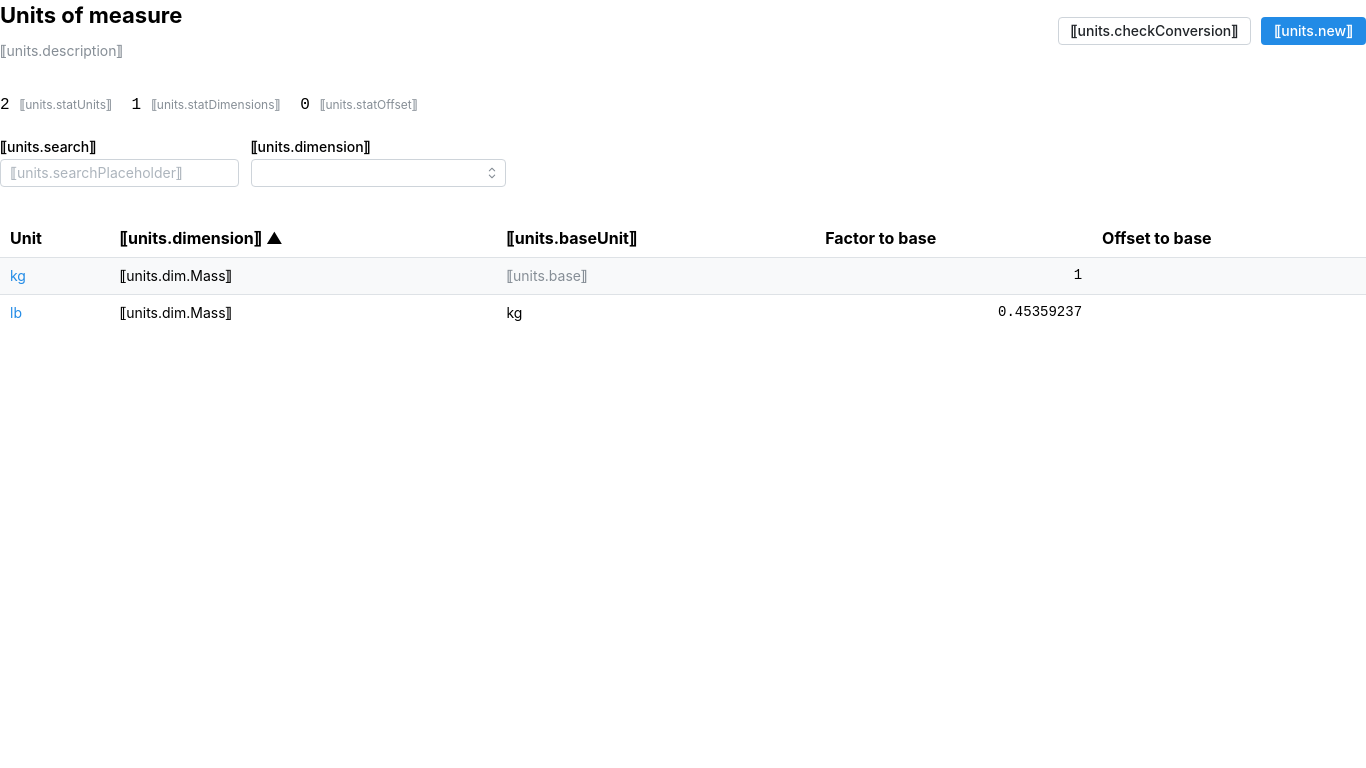
UnitEditModal: правка одиниці (BE-15 ч.2) › невикористовувана небазова одиниця: множник і зсув активні, 20 значущих цифр доїжджають рядком
The image size is (1366, 768).
Click the button "lb": (16, 313) [10,303,22,323]
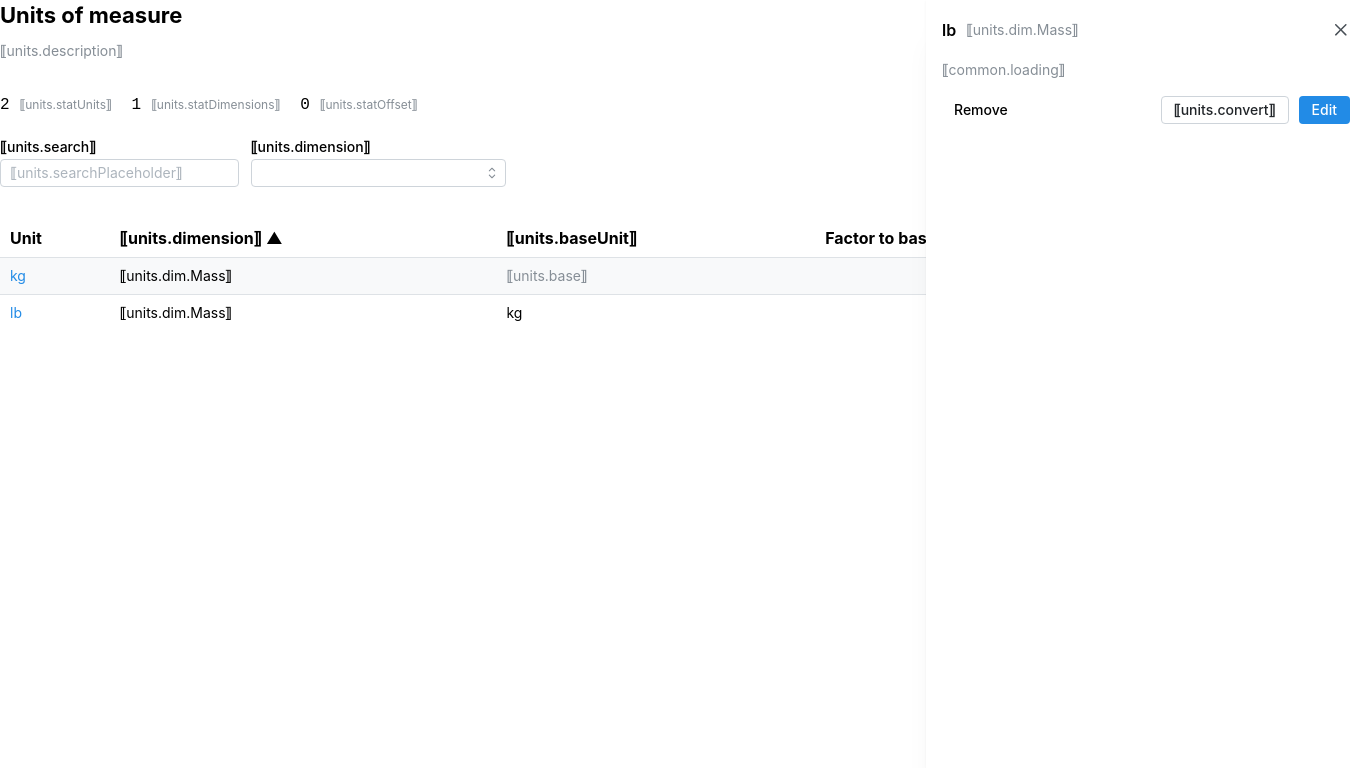
Click the button "Edit": (1324, 110) [1299,96,1350,124]
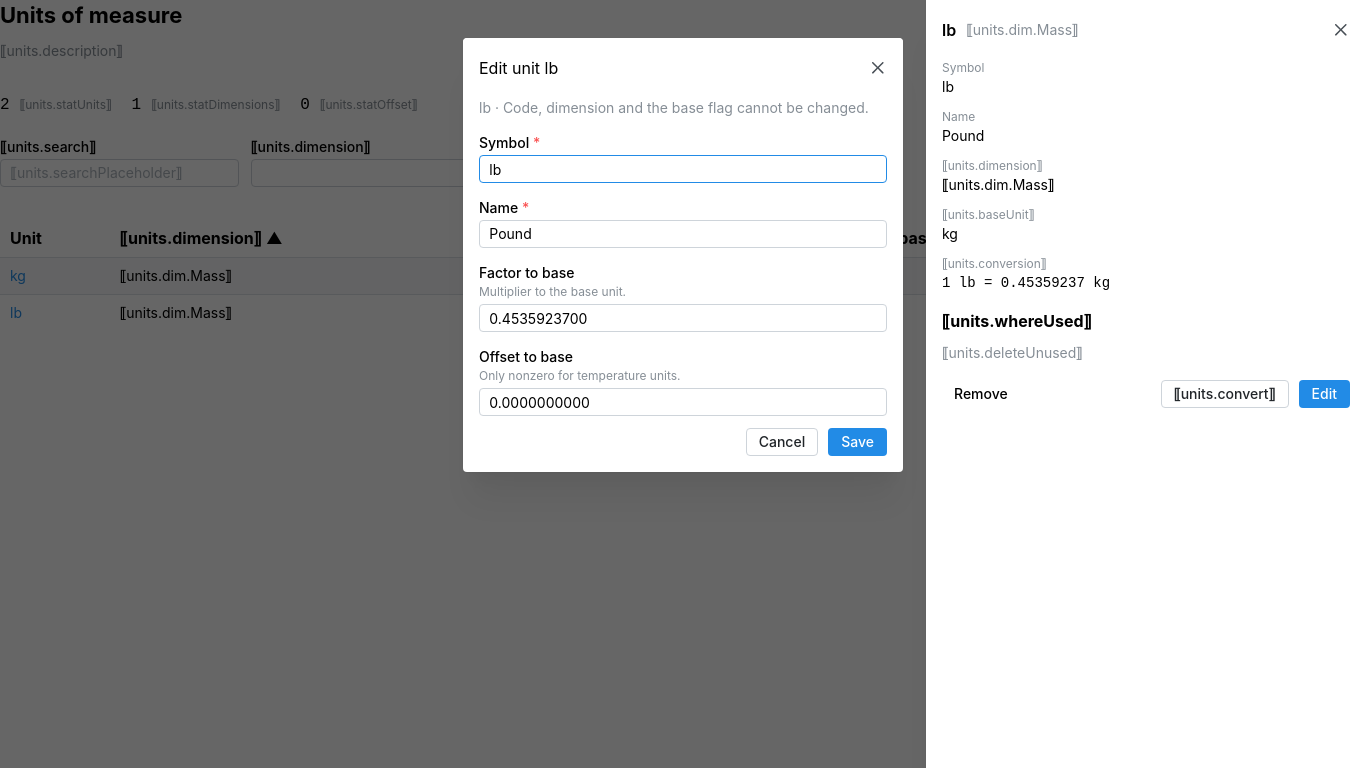
Replace the text in the field labelled "Factor to base" with "1234567.8901234567891": (683, 318) [479,304,887,332]
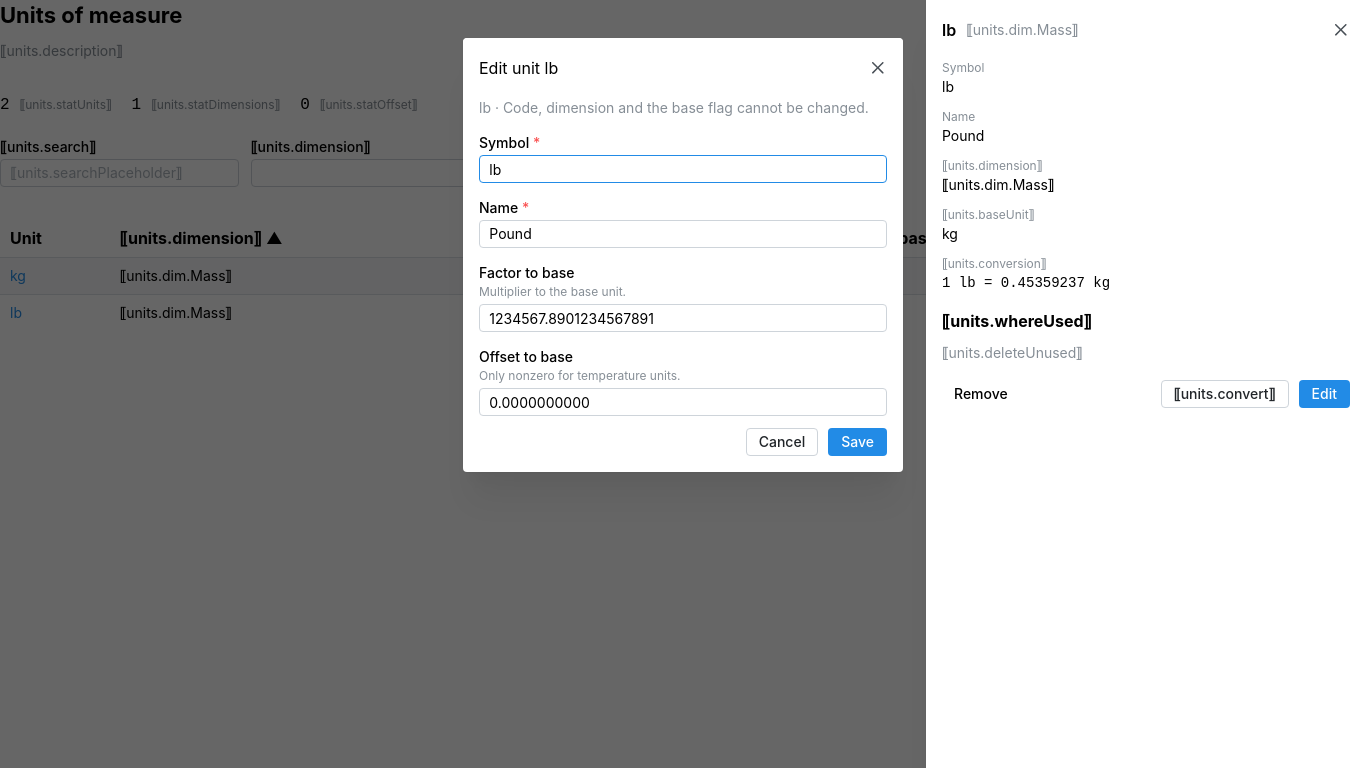
Replace the text in the field labelled "Symbol *" with "lbs": (683, 170) [479,156,887,184]
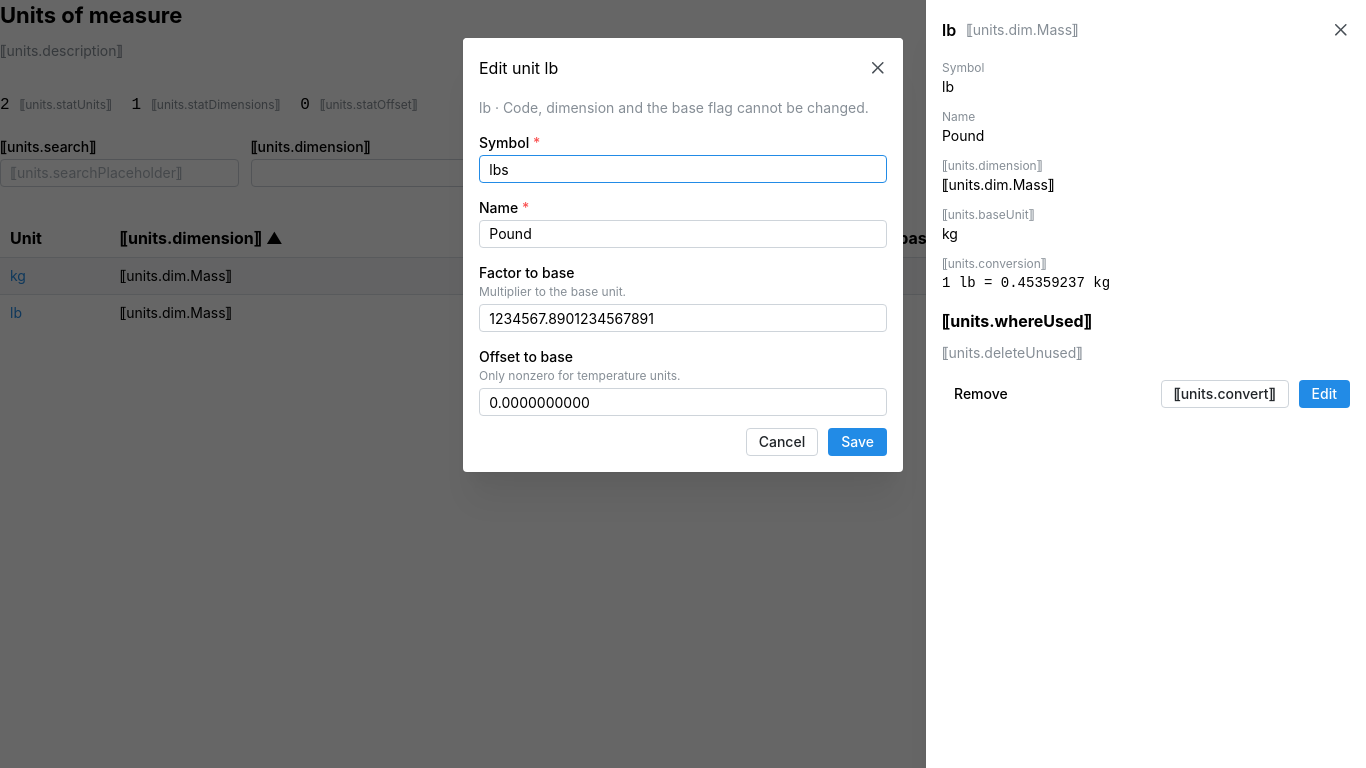
Click the button "Save": (858, 443) [828,429,887,457]
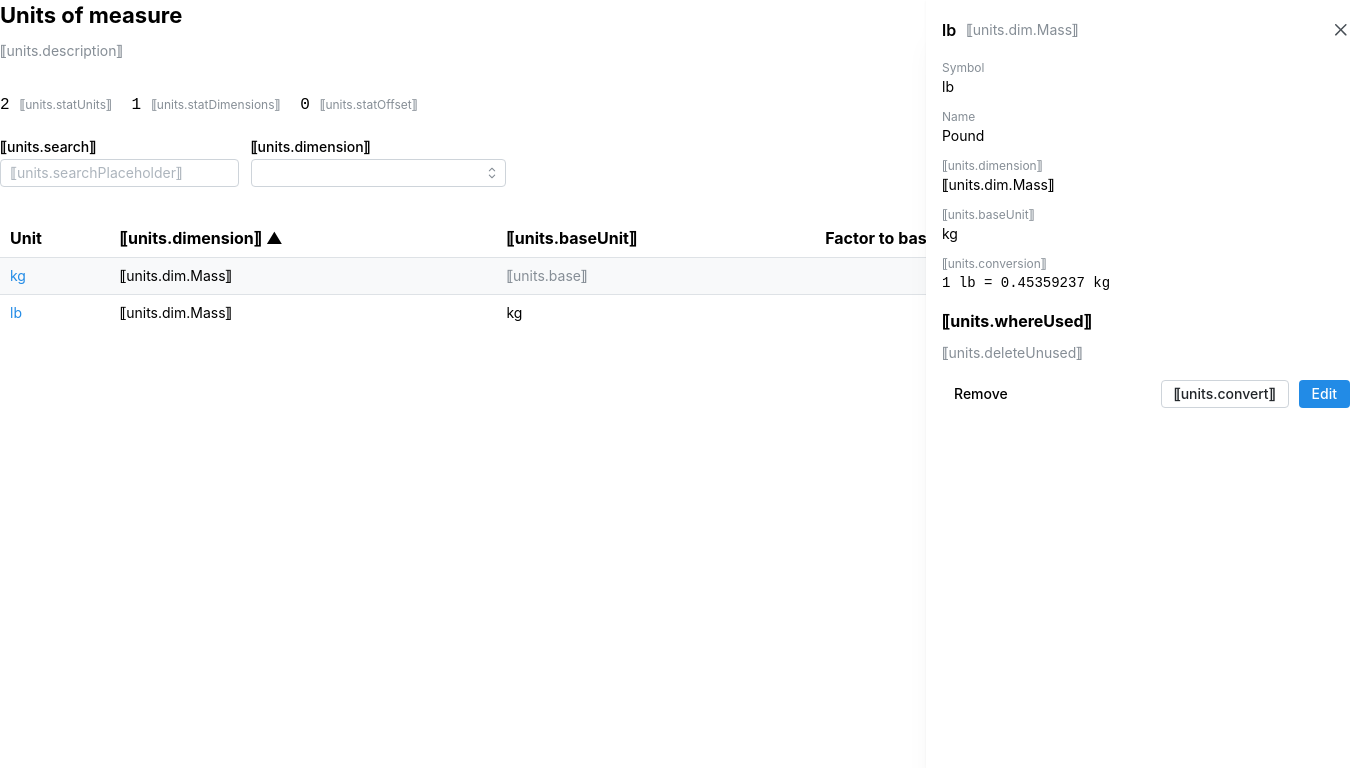
Now the heading "Edit unit" is gone
